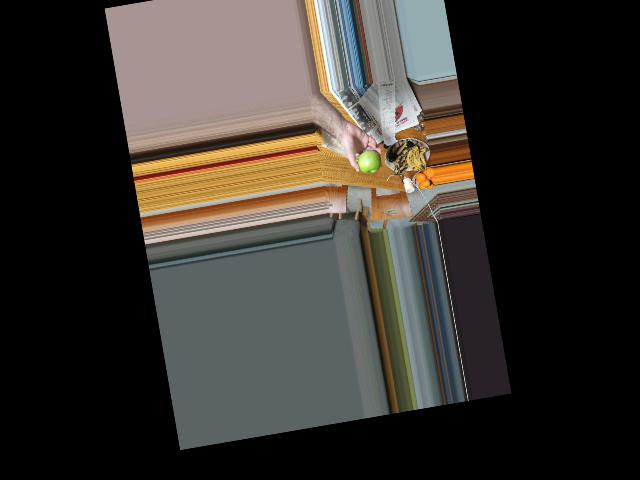apple: (354, 148, 379, 175)
